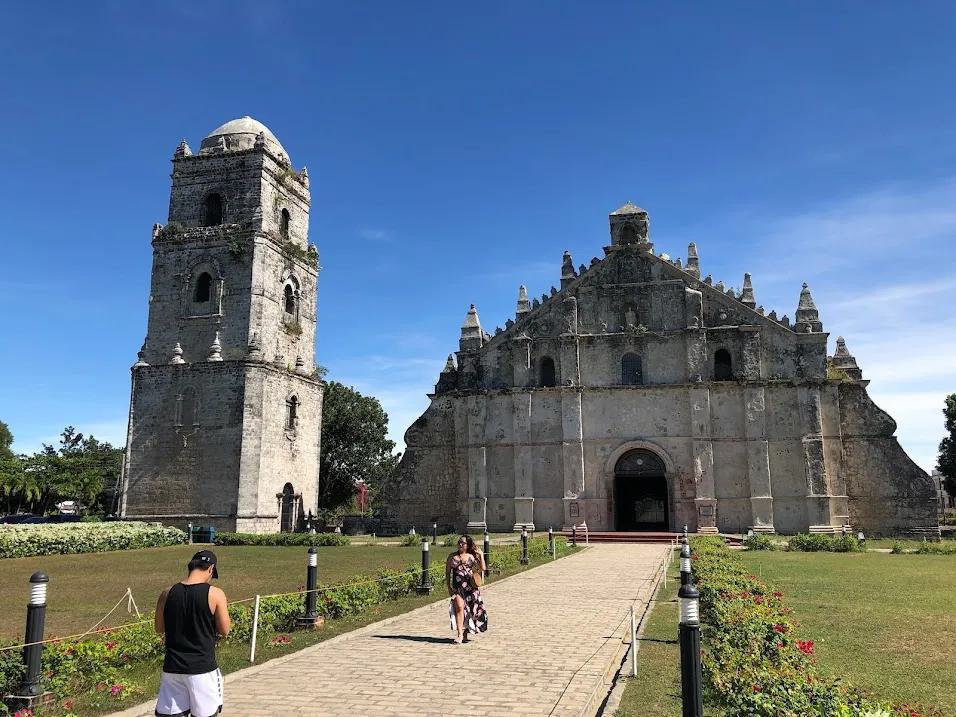Environmental Damage: (160, 220, 194, 247), (279, 240, 314, 264), (277, 160, 306, 185)
Paoay Church: (109, 105, 940, 550)
